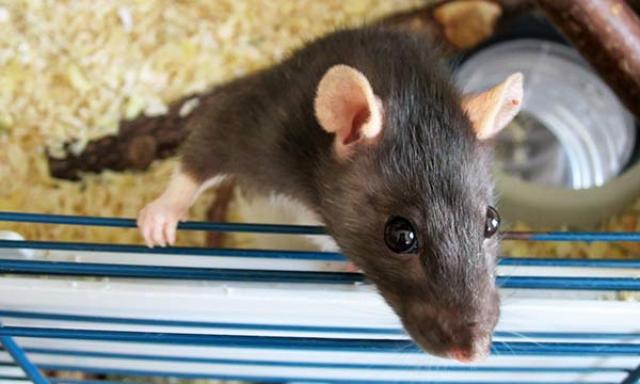rat: (128, 18, 532, 368)
